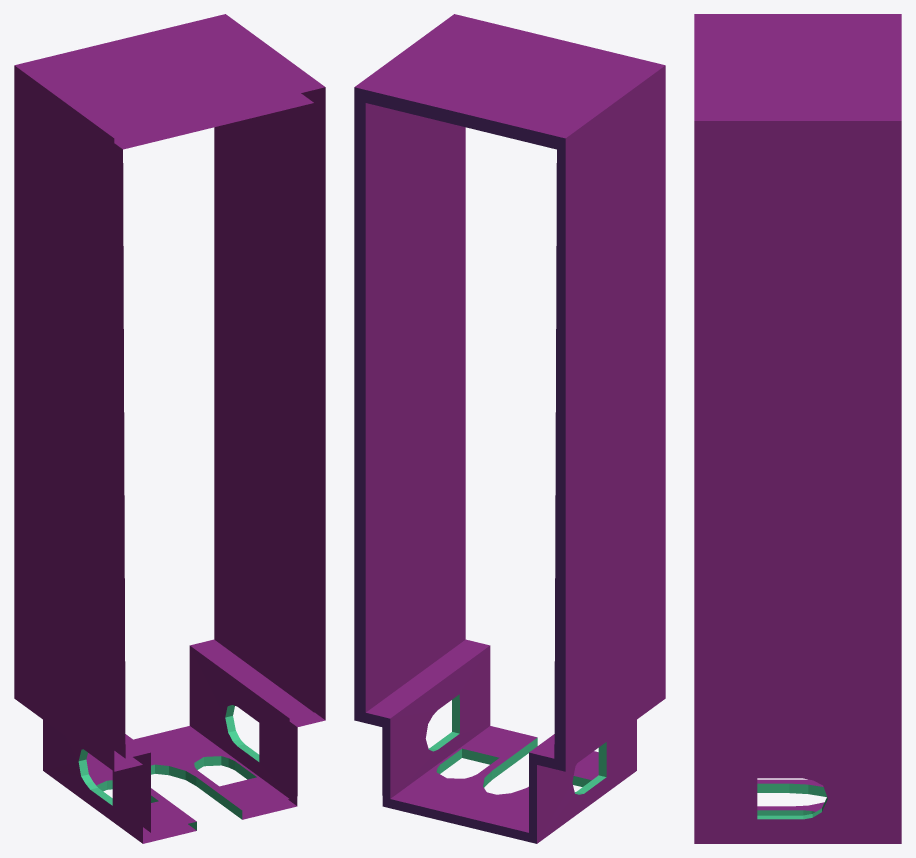
File: Resursa Tier 1.fbx
The picture shows the model from 3 angles, left to right: view 1: azimuth 30°, elevation 25°; view 2: azimuth 150°, elevation 25°; view 3: azimuth 270°, elevation 25°; orthographic projection. The views are drawn at different scales.
Visible parts, largest first — view 1: Resursa; view 2: Resursa; view 3: Resursa.
Part boxes in pixels (x1,y1,x2,y2): Resursa: (14,14,325,843); Resursa: (354,14,665,843); Resursa: (694,14,901,843).
Bounding box in the file's own units: 1.34 × 4.33 × 1.1.
